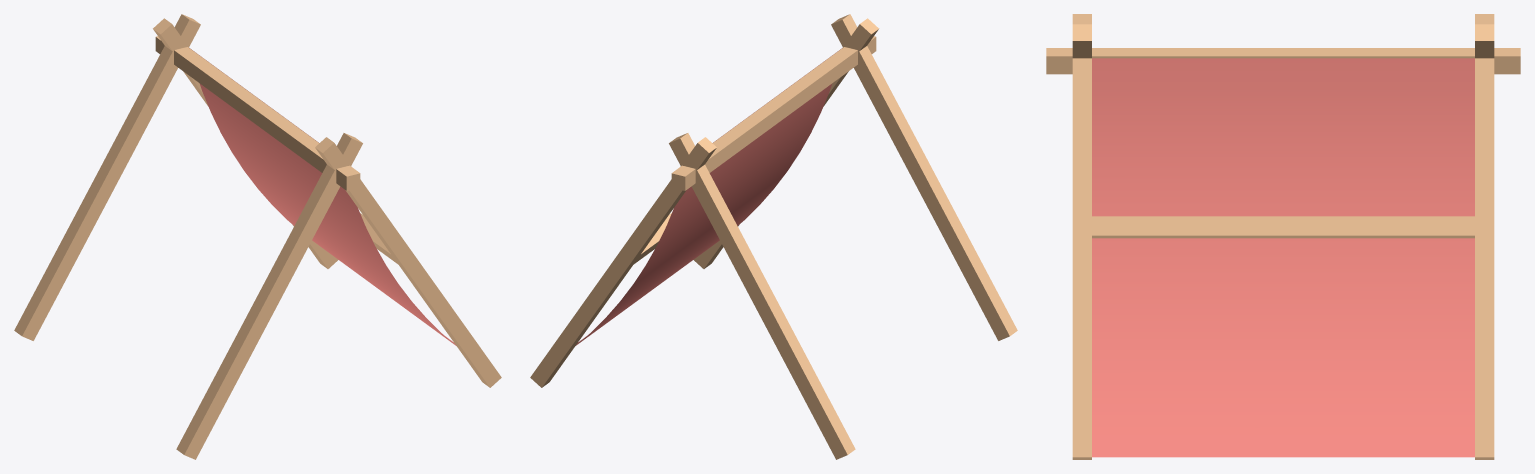
3 renders of one model, left to right at view 1: azimuth 30°, elevation 25°; view 2: azimuth 150°, elevation 25°; view 3: azimuth 270°, elevation 25°, orthographic. The views are drawn at different scales.
Visible parts, largest first — view 1: tentHalf; view 2: tentHalf; view 3: tentHalf.
Boxes of the visible parts, x1=… form: tentHalf: x1=14, y1=14, x2=501, y2=459; tentHalf: x1=530, y1=14, x2=1017, y2=459; tentHalf: x1=1046, y1=14, x2=1520, y2=459.
Bounding box in the file's own units: 0.5392 × 0.4598 × 0.5623.
